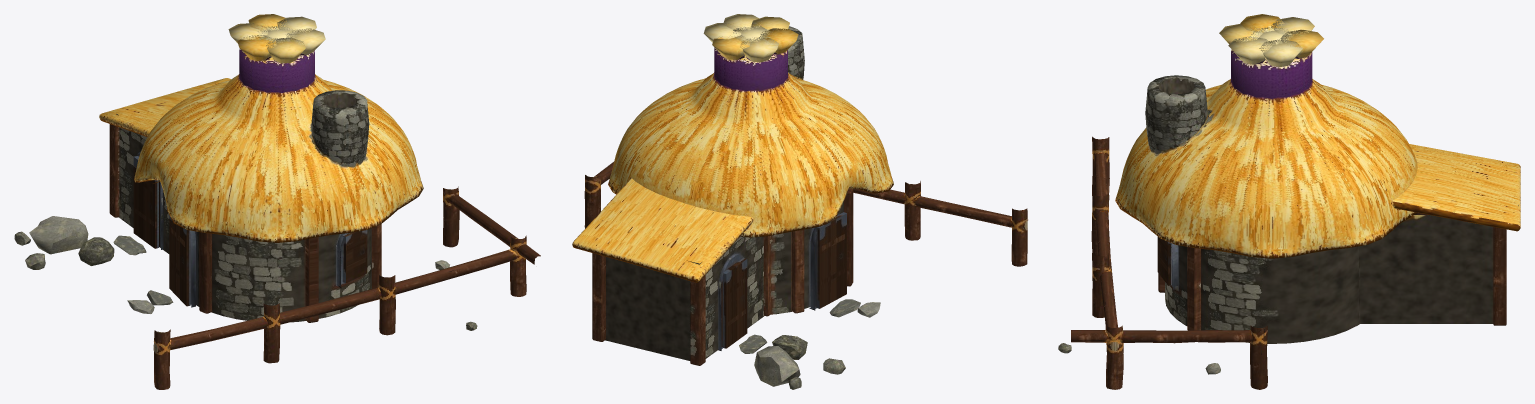
The model's file is peasant_hut_rt_lod1.glb.
The picture shows the model from 3 angles, left to right: view 1: azimuth 30°, elevation 25°; view 2: azimuth 150°, elevation 25°; view 3: azimuth 270°, elevation 25°; orthographic projection. The views are drawn at different scales.
Visible parts, largest first — view 1: hut_lod1, aanbouwdeur_lod1, voordeur_lod1, luik_lod1; view 2: hut_lod1, voordeur_lod1, aanbouwdeur_lod1; view 3: hut_lod1, luik_lod1.
Part boxes in pixels (x1,y1,x2,y2): hut_lod1: (14,14,540,389); aanbouwdeur_lod1: (133,156,158,248); voordeur_lod1: (169,215,190,306); luik_lod1: (342,230,367,282); hut_lod1: (572,14,1027,389); voordeur_lod1: (816,212,846,308); aanbouwdeur_lod1: (722,258,747,348); hut_lod1: (1058,14,1520,389); luik_lod1: (1157,236,1171,285).
Size of the model in its own units: 7.55 by 4.87 by 7.49.
1 material, 1 textured.
